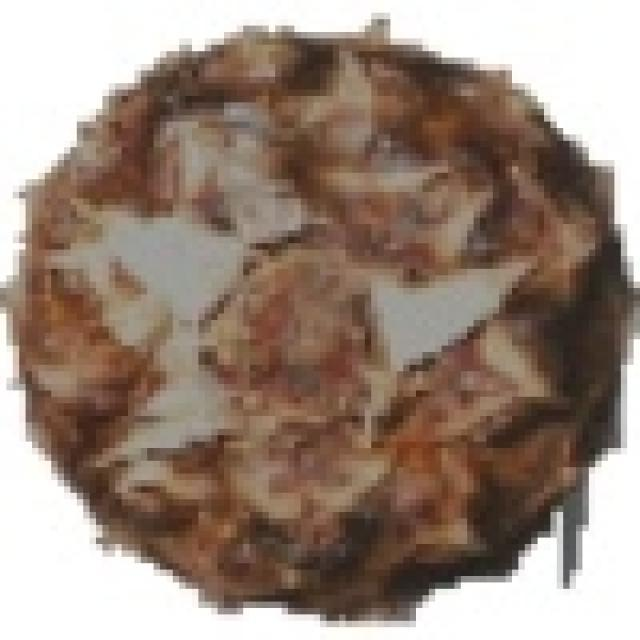pineapple: (6, 19, 614, 602)
